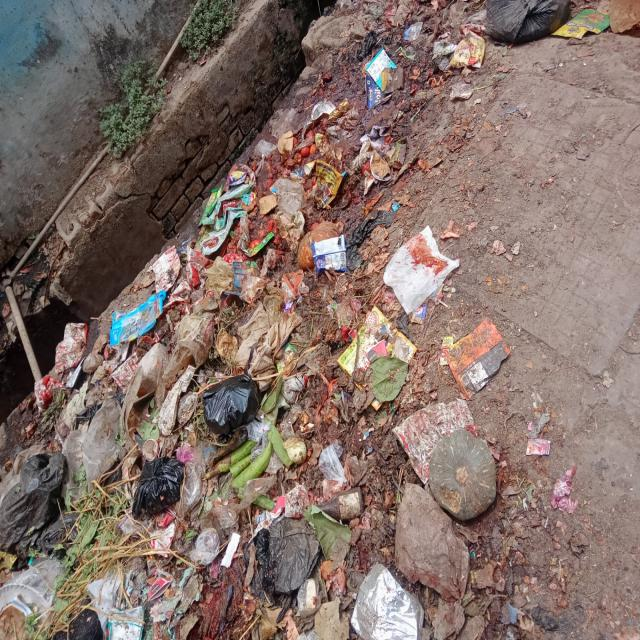Garbage: (1, 59, 394, 632)
